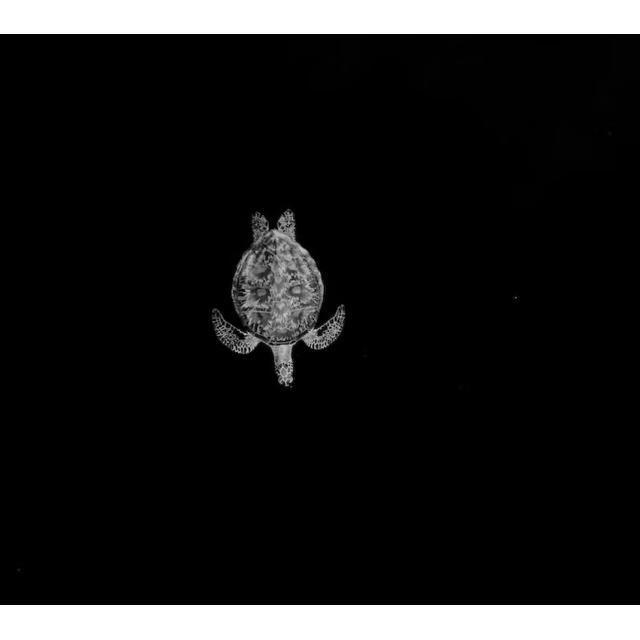turtle: (211, 209, 346, 387)
